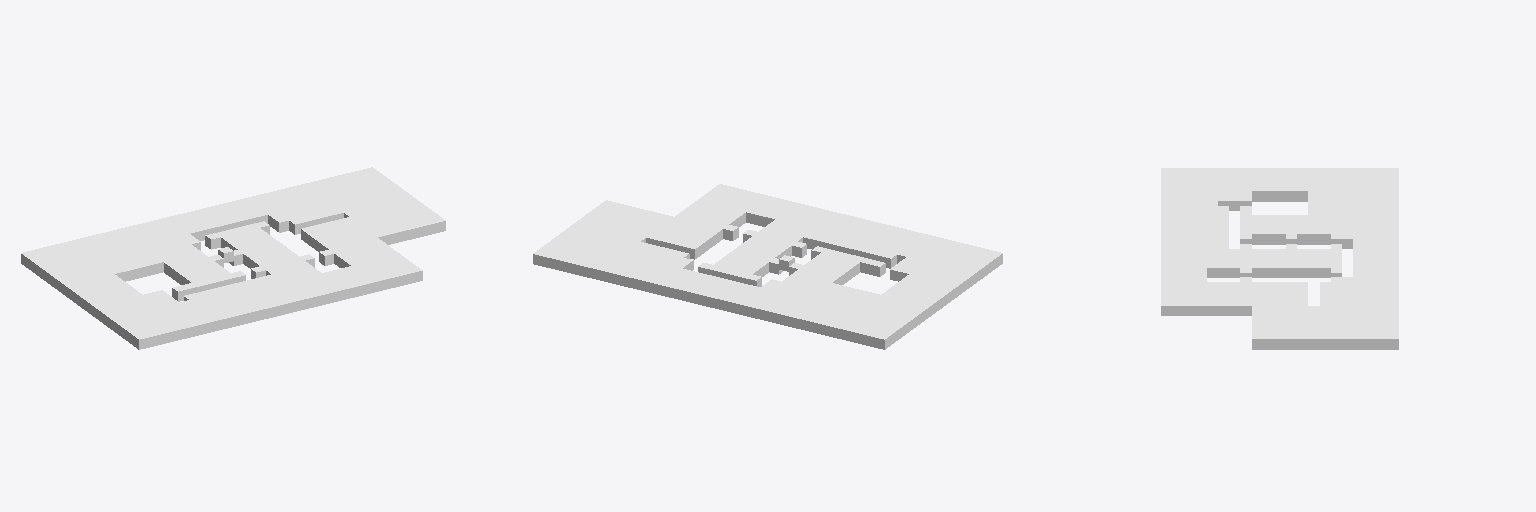
Rendered from level1_JOINED.obj.
The picture shows the model from 3 angles: view 1: azimuth 30°, elevation 25°; view 2: azimuth 150°, elevation 25°; view 3: azimuth 270°, elevation 25°; orthographic projection.
Visible parts, largest first — view 1: wall__29__Scene; view 2: wall__29__Scene; view 3: wall__29__Scene.
Part boxes in pixels (bbox=[...]): wall__29__Scene: bbox=[21, 167, 445, 349]; wall__29__Scene: bbox=[533, 184, 1002, 349]; wall__29__Scene: bbox=[1161, 168, 1398, 349].
Size of the model in its own units: 36 by 1.5 by 21.